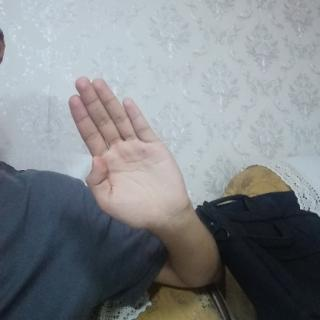SEEN: (62, 72, 194, 240)
